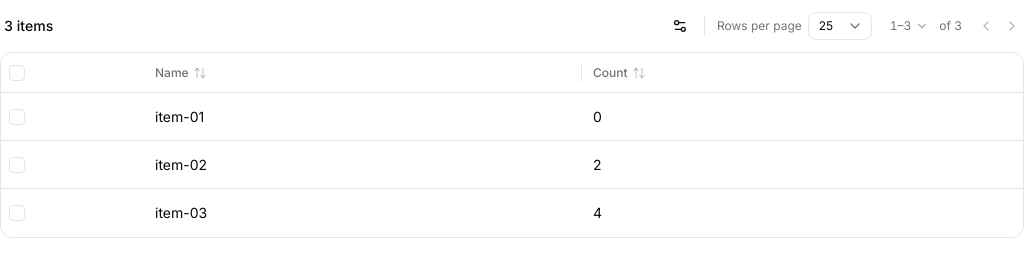
Scenario: DataTable › selection › shows the selection bar, runs a bulk action, and clears
Expected: the text "selected" is not shown
Click the checkbox named "Select row" next to "item-01".
click(17, 116)  # box x1=9 y1=108 x2=25 y2=124
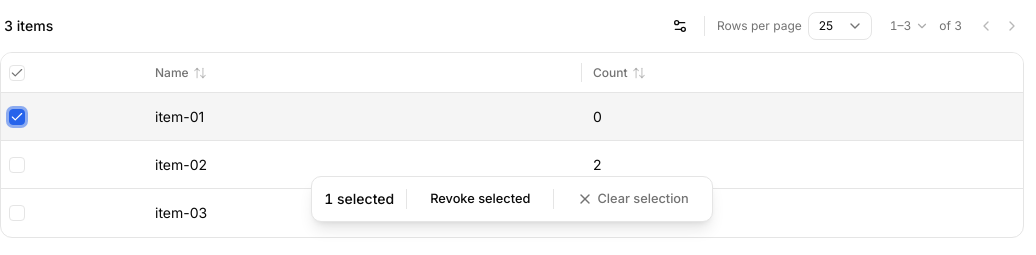
Click the checkbox named "Select row" next to "item-03".
click(17, 213)  # box x1=9 y1=205 x2=25 y2=221
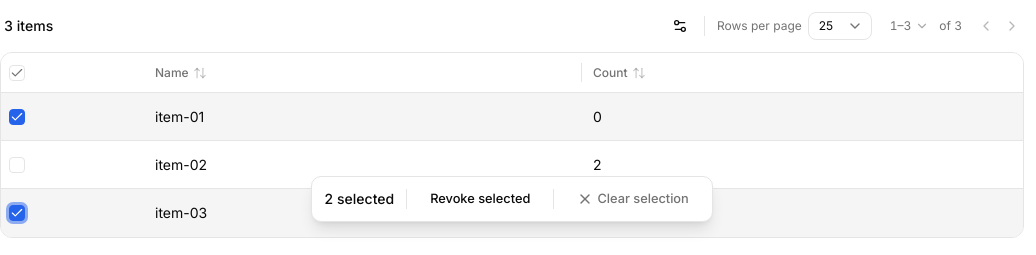
Expected: the text "2 selected" is shown, x1=324 y1=189 x2=394 y2=209
Click the button "Revoke selected".
click(480, 199)  # box x1=419 y1=185 x2=541 y2=213
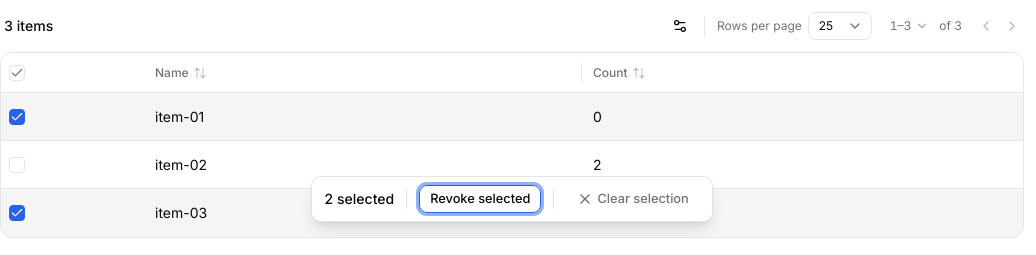
Click the button "Clear selection".
click(633, 199)  # box x1=566 y1=185 x2=700 y2=213
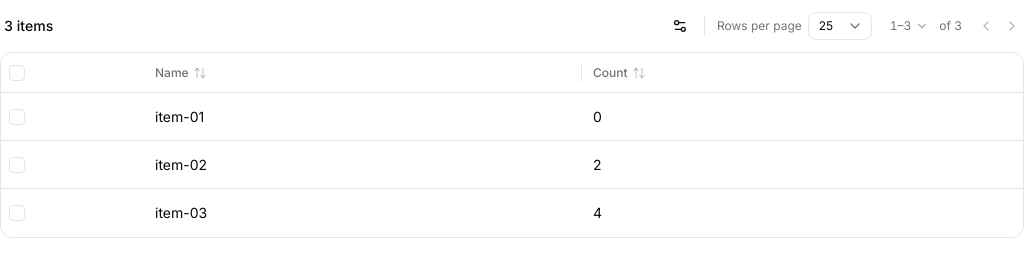
Expected: the text "2 selected" is gone
